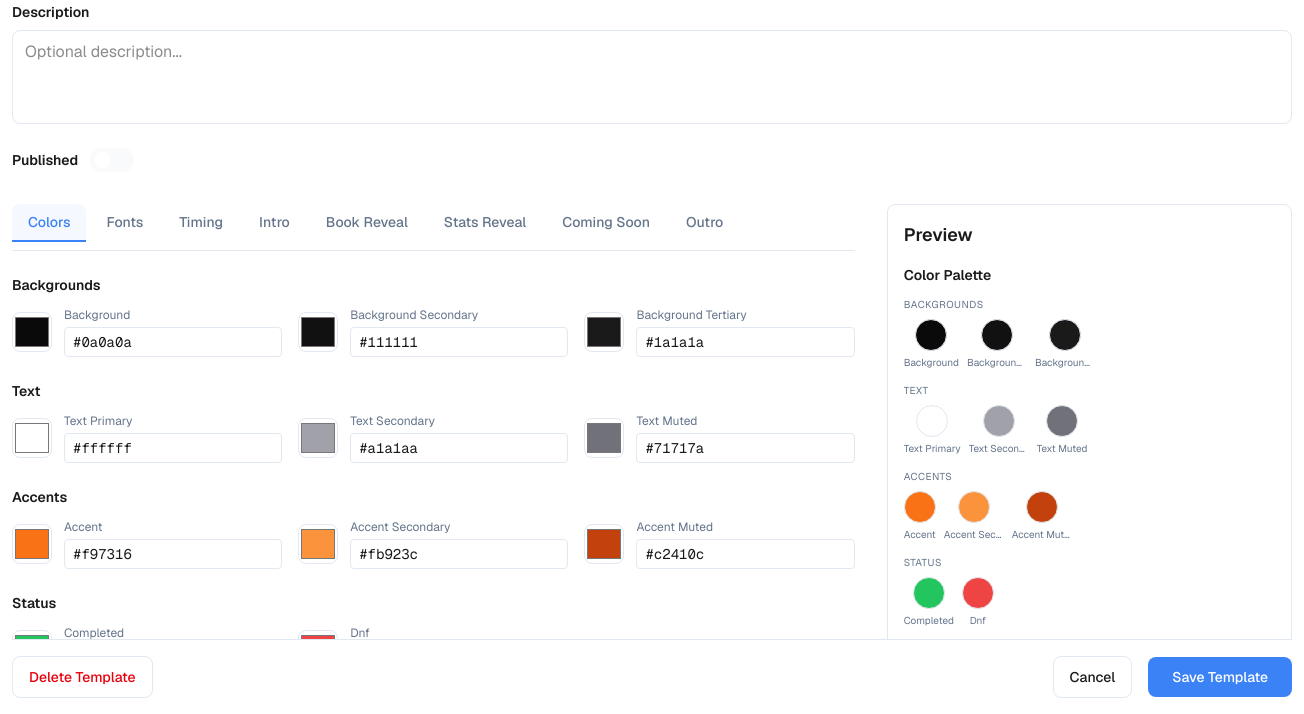
Scenario: Template Editor Background Image UI › per-sequence section shows "Inheriting from global" indicator when no sequence-specific override is set
// Switch to Intro tab
Click the button "Intro" at [274, 223], box [243, 204, 306, 242]
(page scrolled)
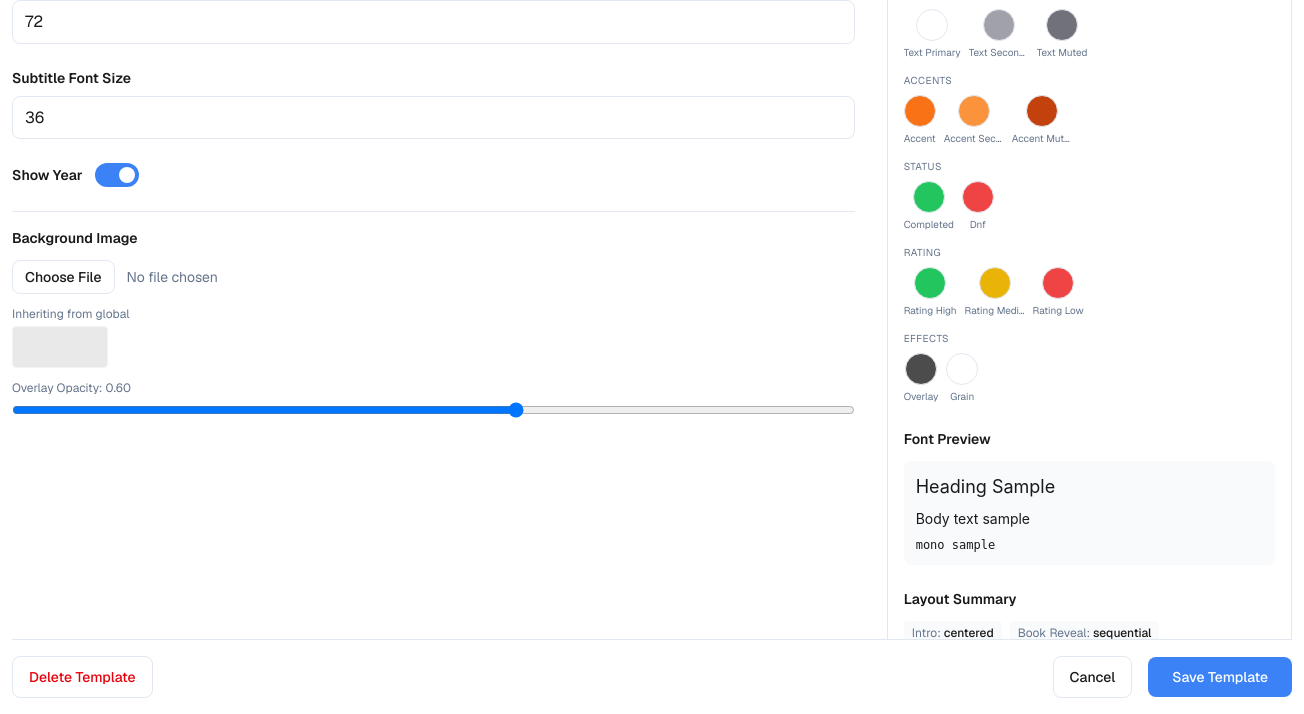
Expected: the text "Inheriting from global" is shown, [12, 306, 129, 322]
